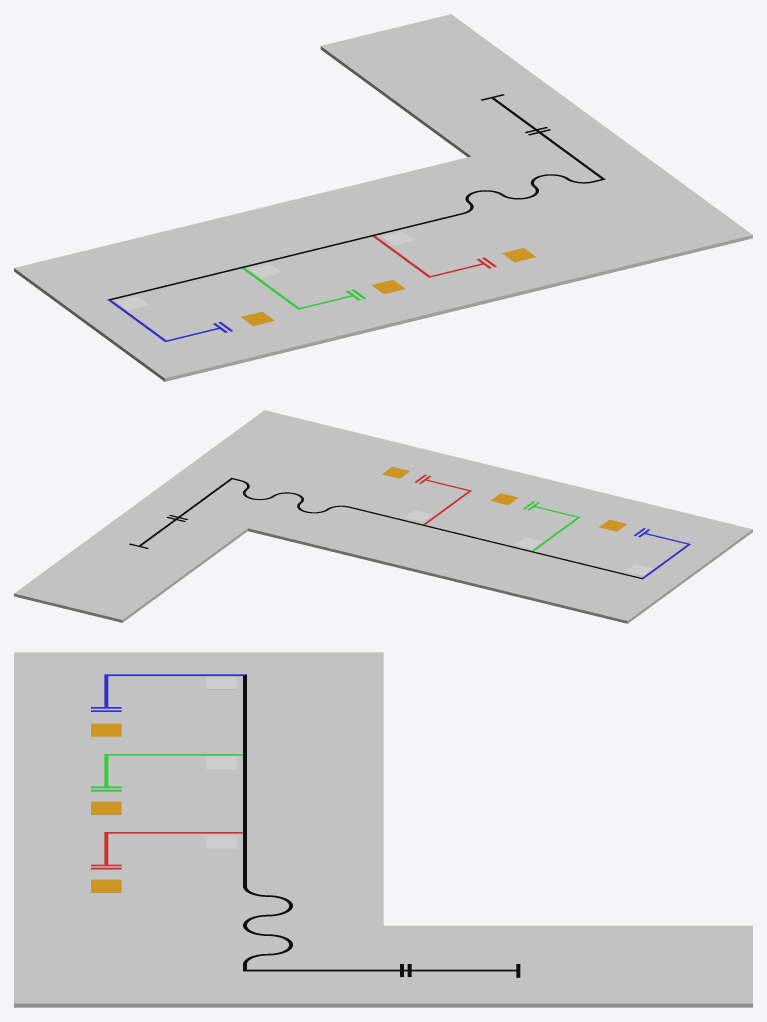
The model's file is map.dae.
3 renders of one model, top to bottom at view 1: azimuth 30°, elevation 25°; view 2: azimuth 150°, elevation 25°; view 3: azimuth 270°, elevation 25°, orthographic. The views are drawn at different scales.
Parts seen in each view (by area): view 1: Floor10; view 2: Floor10; view 3: Floor10.
Boxes of the visible parts, box(x1,y1,x2,y2) form: Floor10: box(14, 14, 752, 381); Floor10: box(14, 410, 752, 623); Floor10: box(14, 652, 752, 1007).
Size of the model in its own units: 5.4 by 4.8 by 0.031.
